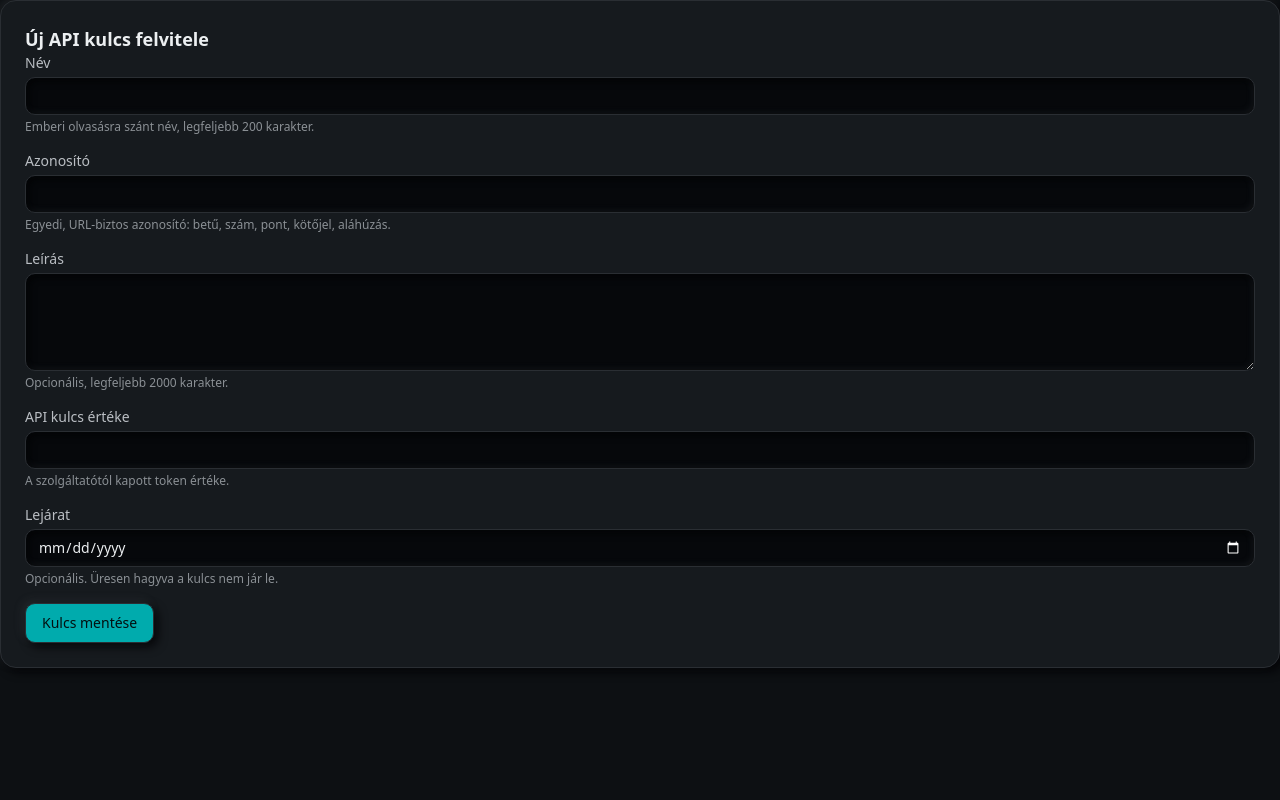
ApiKeyForm › rejects an identifier that the backend would refuse
Type "Vapi staging" into the field labelled "Név". click: (640,96)
box: [25,77,1255,115]
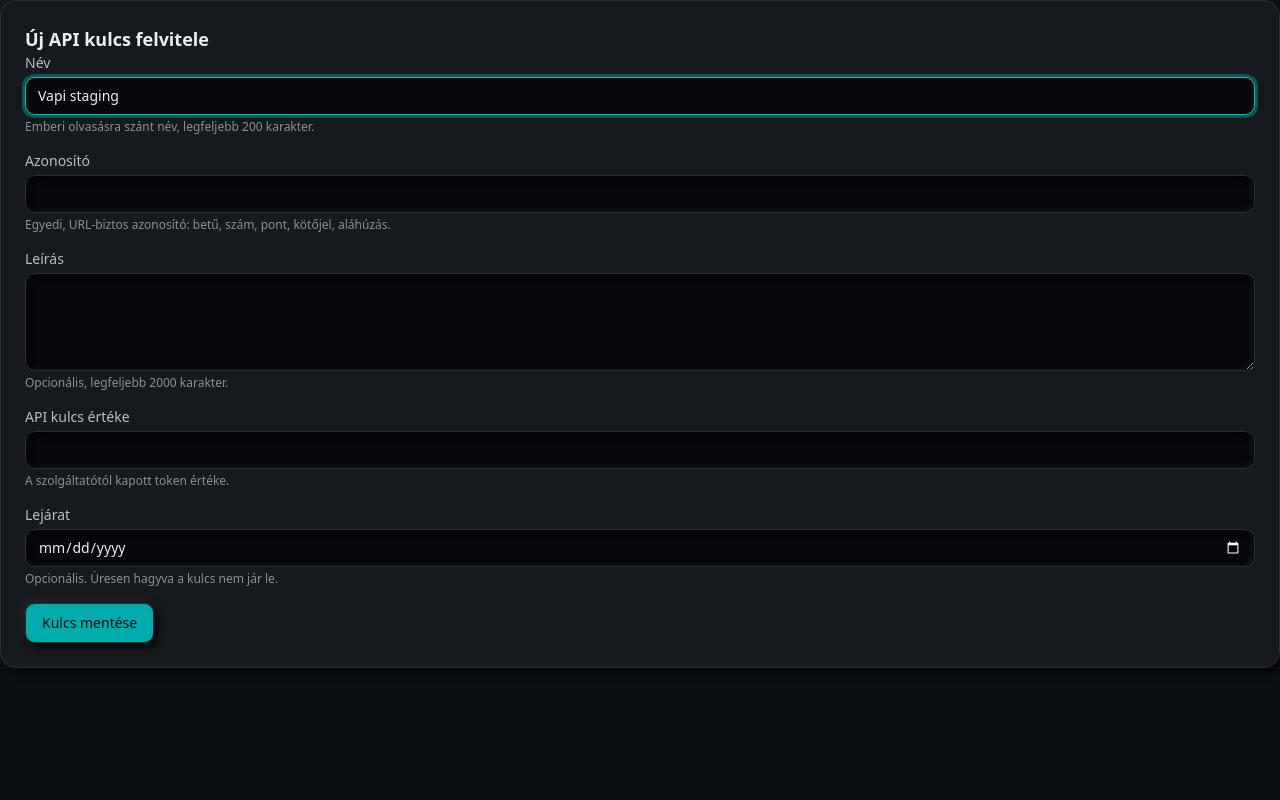
Type "vapi staging" into the field labelled "Azonosító". click: (640,194)
box: [25,175,1255,213]
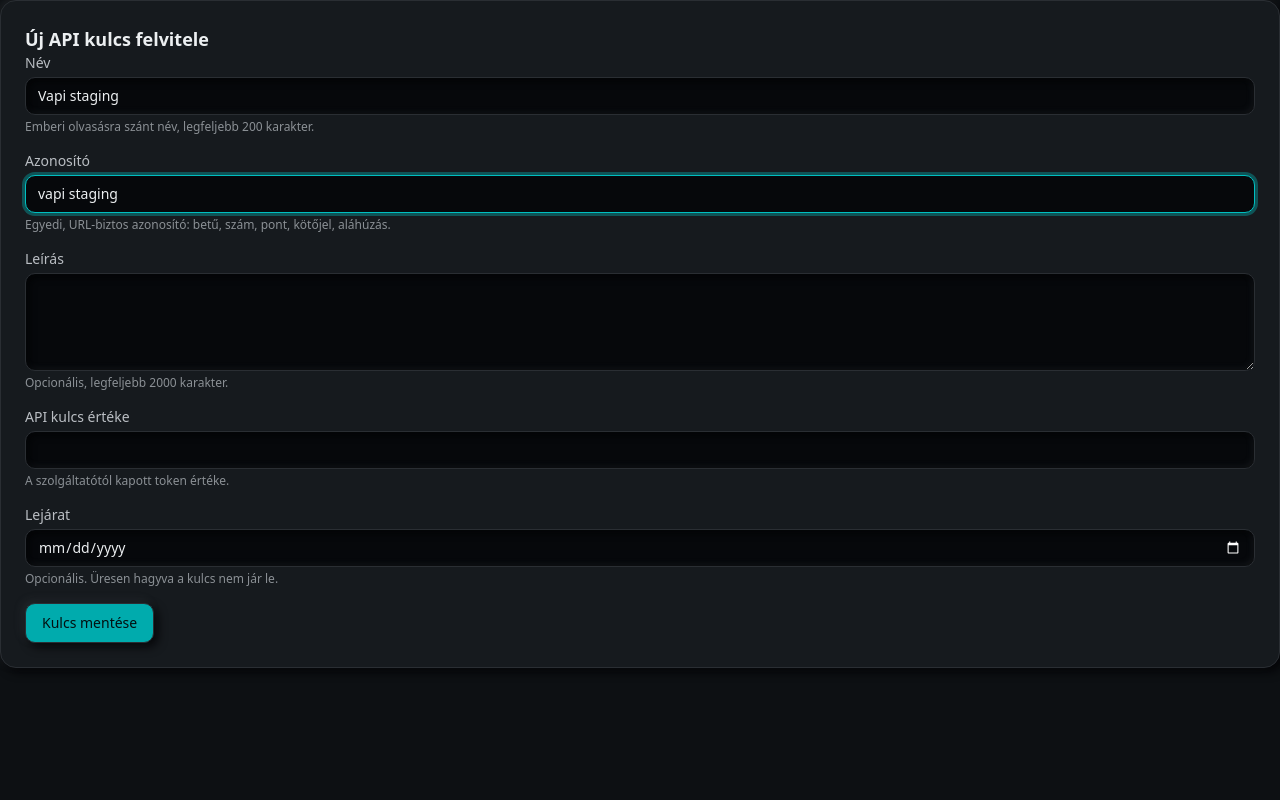
Type "sk-stage-42" into the field labelled "API kulcs értéke". click: (640,450)
box: [25,431,1255,469]
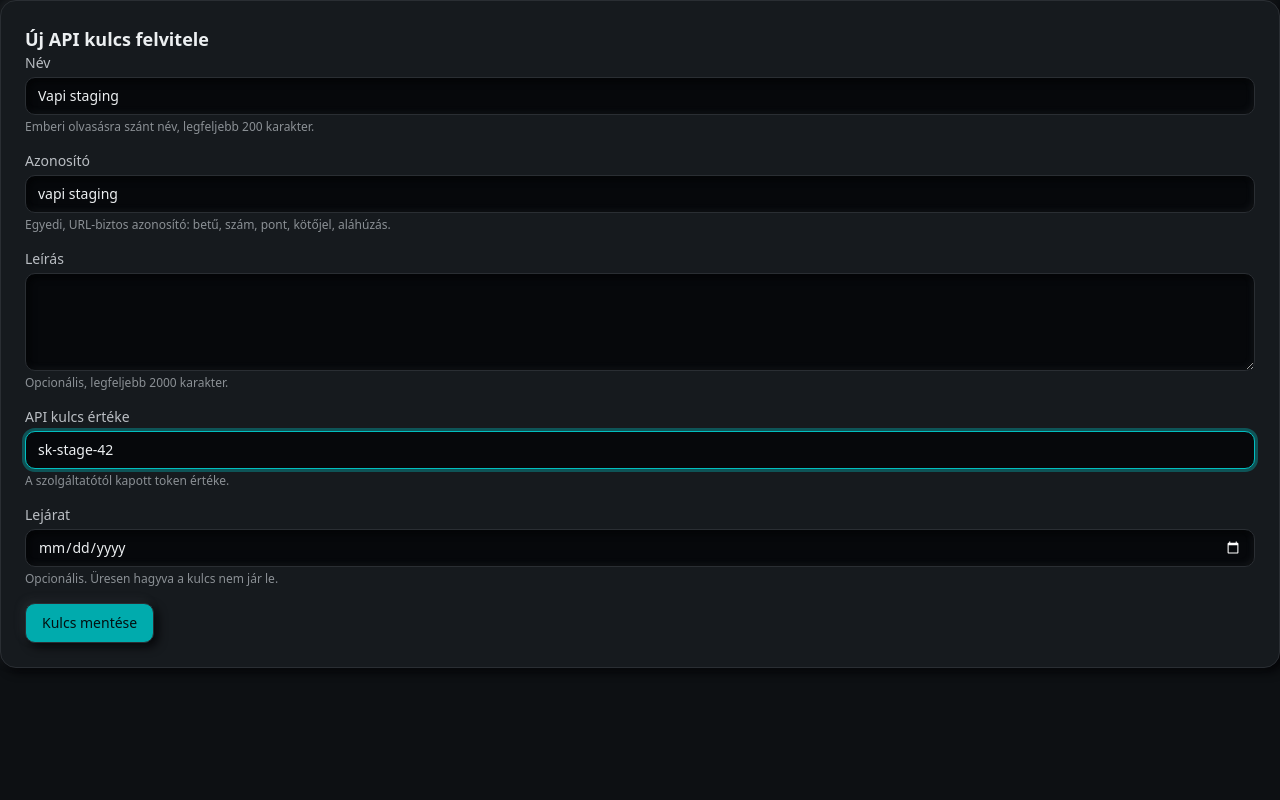
Click the button "Kulcs mentése". click: (90,623)
box: [25,603,154,643]
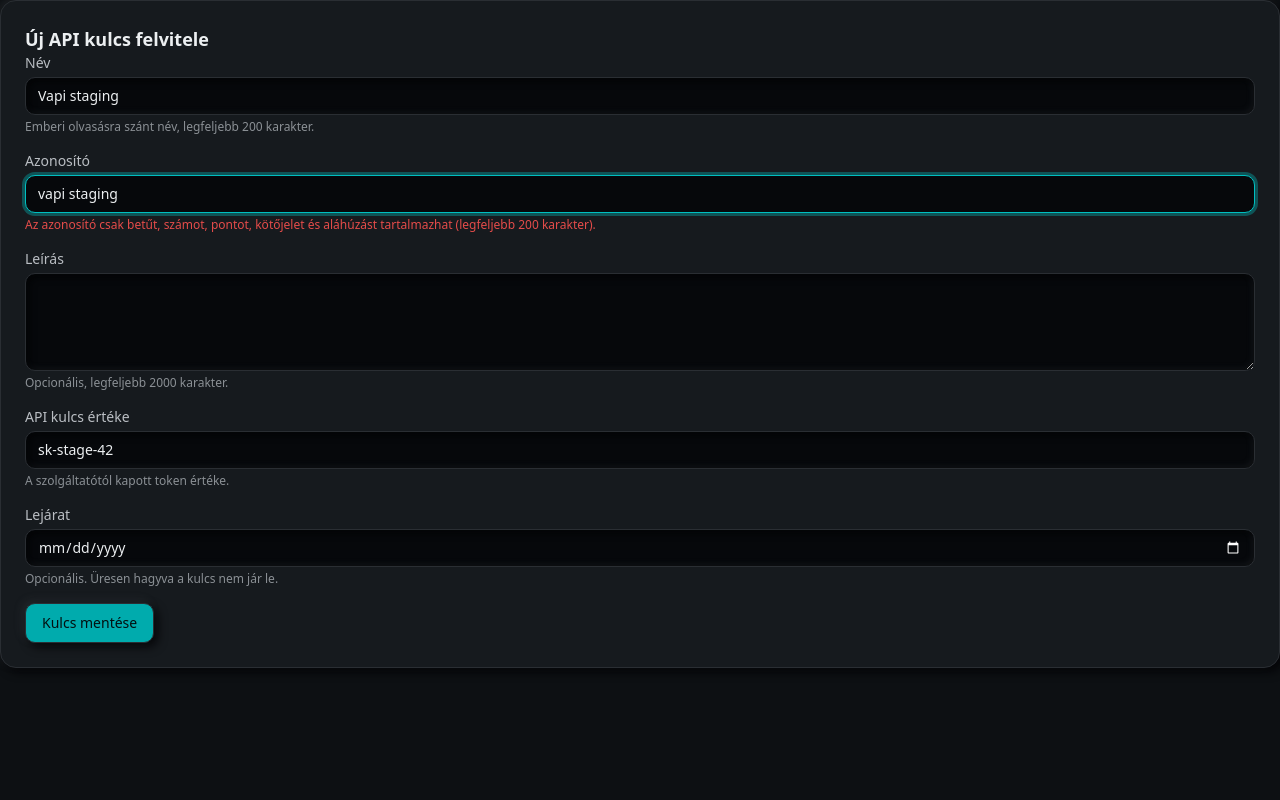
expect the text "Az azonosító csak betűt, számot, pontot, kötőjelet és aláhúzást tartalmazhat (legfeljebb 200 karakter)." is shown: met, box [25,216,596,233]
